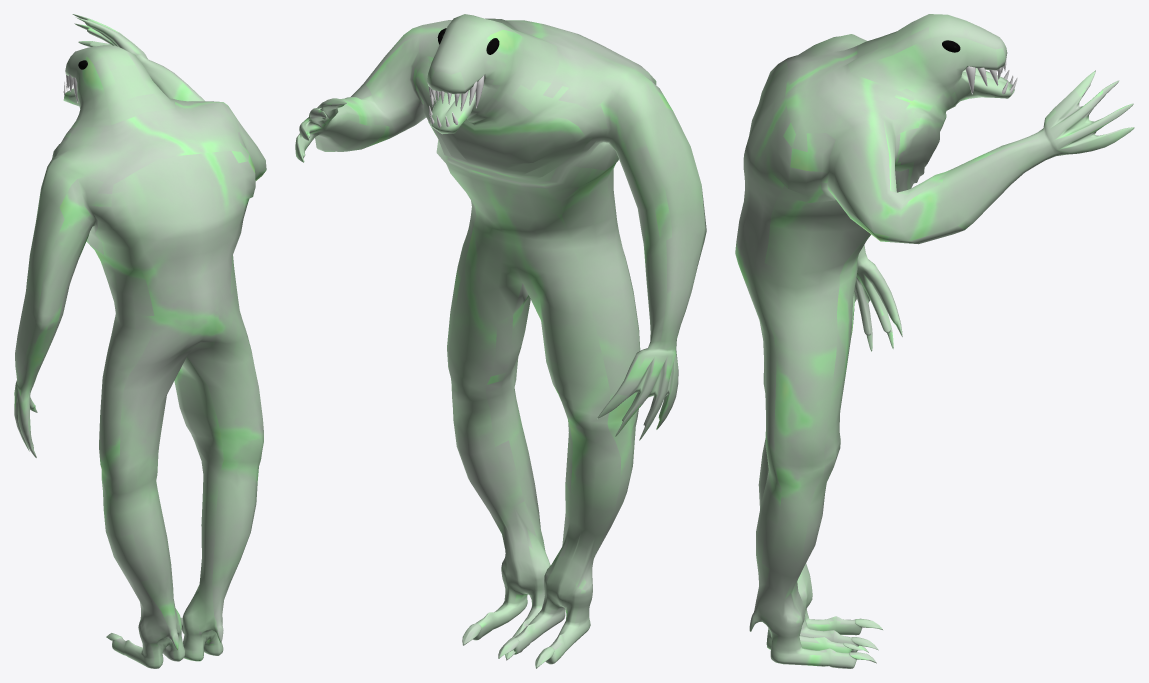
File: Berserkercorrer.0014.obj
The picture shows the model from 3 angles, left to right: view 1: azimuth 30°, elevation 25°; view 2: azimuth 150°, elevation 25°; view 3: azimuth 270°, elevation 25°; orthographic projection. The views are drawn at different scales.
Parts seen in each view (by area): view 1: polySurface27; view 2: polySurface27; view 3: polySurface27.
Boxes of the visible parts, x1,y1,x2,y2 form: polySurface27: [14, 14, 266, 668]; polySurface27: [295, 14, 706, 668]; polySurface27: [735, 14, 1134, 668].
Bounding box in the file's own units: 11.75 × 23.97 × 13.69.
Materials: 1 (1 with a texture image).
